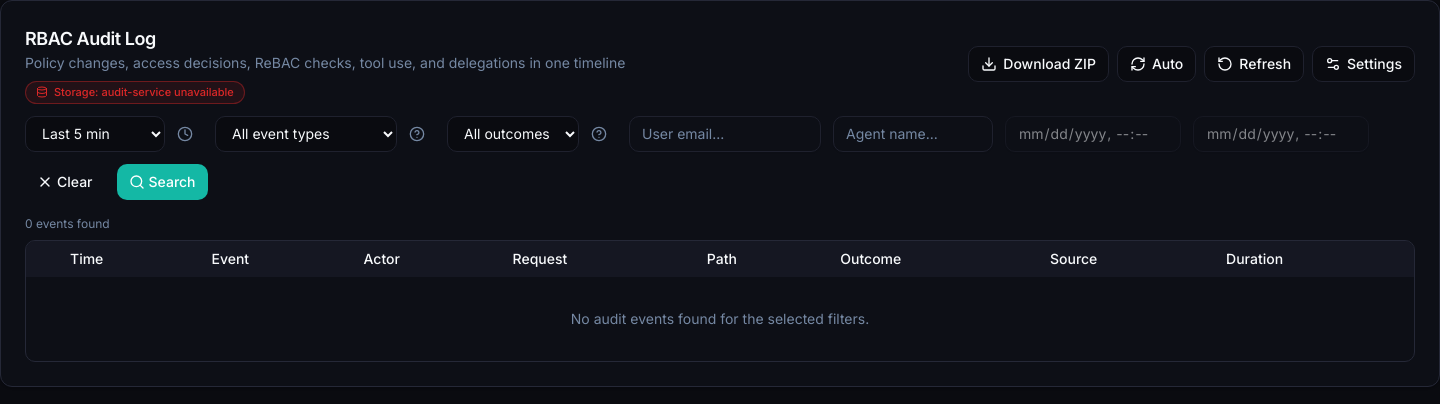
Test: UnifiedAuditTab › refreshes audit storage status with the event refresh button
The image size is (1440, 404).
Expected: the text "Storage: audit-service unavailable" is shown, [25,81,245,104]
Click the button "Refresh".
click(1254, 64)  # box [1204,46,1304,82]
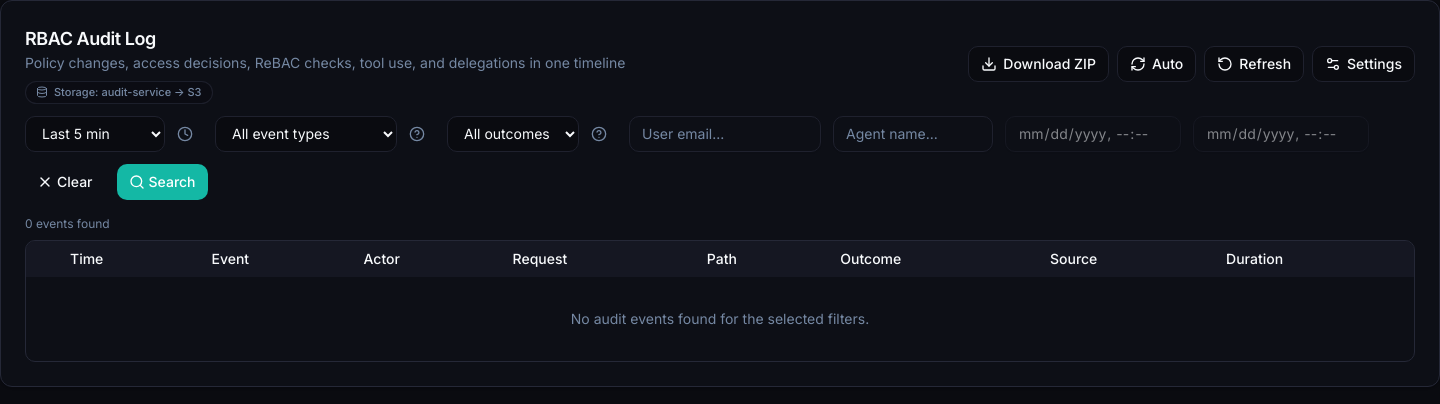
Result: the text "Storage: audit-service -> S3" is shown at [25,81,212,104]
